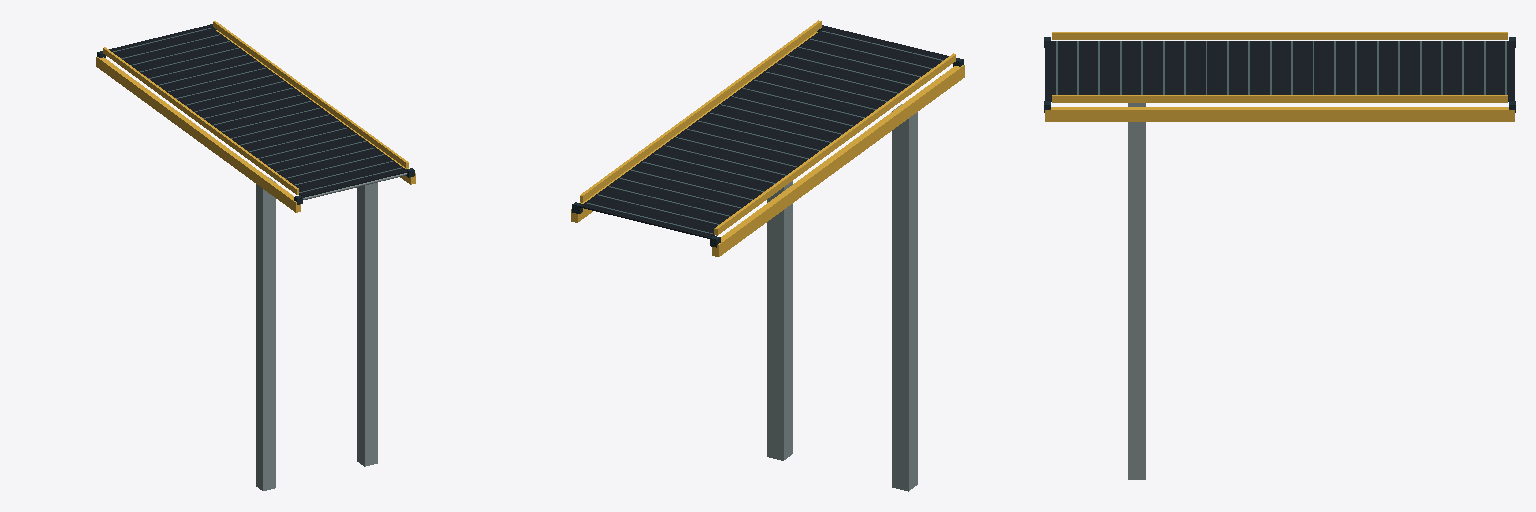
URDF robot description (door_belt):
<?xml version='1.0' encoding='utf-8'?>
<robot name="door_belt">
  <link name="fixture_world" />
  <link name="door_belt_frame">
    <visual>
      <geometry>
        <mesh filename="package://bellybot_aircraft_environment/models/door_belt/meshes/door_belt_frame.dae" />
      </geometry>
    </visual>
    <inertial>
      <origin xyz="0 0 -0.5565" rpy="0 0 0" />
      <mass value="38" />
      <inertia ixx="11.485354333333333" iyy="22.414075166666667" izz="13.900479166666665" ixy="0" ixz="0" iyz="0" />
    </inertial>
    <collision name="frame-1">
      <geometry>
        <mesh filename="package://bellybot_aircraft_environment/models/door_belt/meshes/collision_door_belt_frame_frame-1.stl" />
      </geometry>
    </collision>
    <collision name="guide-1">
      <geometry>
        <mesh filename="package://bellybot_aircraft_environment/models/door_belt/meshes/collision_door_belt_frame_guide-1.stl" />
      </geometry>
    </collision>
    <collision name="frame1">
      <geometry>
        <mesh filename="package://bellybot_aircraft_environment/models/door_belt/meshes/collision_door_belt_frame_frame1.stl" />
      </geometry>
    </collision>
    <collision name="guide1">
      <geometry>
        <mesh filename="package://bellybot_aircraft_environment/models/door_belt/meshes/collision_door_belt_frame_guide1.stl" />
      </geometry>
    </collision>
    <collision name="ground_leg-1">
      <geometry>
        <mesh filename="package://bellybot_aircraft_environment/models/door_belt/meshes/collision_door_belt_frame_ground_leg-1.stl" />
      </geometry>
    </collision>
    <collision name="ground_leg1">
      <geometry>
        <mesh filename="package://bellybot_aircraft_environment/models/door_belt/meshes/collision_door_belt_frame_ground_leg1.stl" />
      </geometry>
    </collision>
  </link>
  <joint name="door_belt_frame_anchor" type="fixed">
    <parent link="fixture_world" />
    <child link="door_belt_frame" />
    <origin xyz="1.3 -1.599 0" rpy="0 0 1.570796327" />
  </joint>
  <link name="door_belt_contact">
    <visual>
      <geometry>
        <mesh filename="package://bellybot_aircraft_environment/models/door_belt/meshes/door_belt_contact.dae" />
      </geometry>
    </visual>
    <inertial>
      <origin xyz="0 0 0.2974" rpy="0 0 0" />
      <mass value="1" />
      <inertia ixx="0.030033333333333332" iyy="0.32607366666666665" izz="0.35604033333333335" ixy="0" ixz="0" iyz="0" />
    </inertial>
    <collision name="contact">
      <geometry>
        <mesh filename="package://bellybot_aircraft_environment/models/door_belt/meshes/collision_door_belt_contact_contact.stl" />
      </geometry>
    </collision>
  </link>
  <link name="door_belt_contact_rear">
    <visual>
      <geometry>
        <mesh filename="package://bellybot_aircraft_environment/models/door_belt/meshes/door_belt_contact_rear.dae" />
      </geometry>
    </visual>
    <inertial>
      <origin xyz="0 0 0" rpy="0 0 0" />
      <mass value="0.5" />
      <inertia ixx="0.018836166666666664" iyy="4.033333333333339e-05" izz="0.018836166666666664" ixy="0" ixz="0" iyz="0" />
    </inertial>
  </link>
  <link name="door_belt_contact_front">
    <visual>
      <geometry>
        <mesh filename="package://bellybot_aircraft_environment/models/door_belt/meshes/door_belt_contact_front.dae" />
      </geometry>
    </visual>
    <inertial>
      <origin xyz="0 0 0" rpy="0 0 0" />
      <mass value="0.5" />
      <inertia ixx="0.018836166666666664" iyy="4.033333333333339e-05" izz="0.018836166666666664" ixy="0" ixz="0" iyz="0" />
    </inertial>
  </link>
  <joint name="door_belt_contact_joint" type="fixed">
    <parent link="door_belt_frame" />
    <child link="door_belt_contact" />
    <origin xyz="0 0 0" rpy="0 0 0" />
  </joint>
  <joint name="door_belt_contact_rear_joint" type="continuous">
    <parent link="door_belt_frame" />
    <child link="door_belt_contact_rear" />
    <origin xyz="-0.977 0 0.286" rpy="0 0 0" />
    <axis xyz="0 1 0" />
    <limit effort="120" velocity="120" />
    <dynamics damping=".3" friction="0" />
  </joint>
  <joint name="door_belt_contact_front_joint" type="continuous">
    <parent link="door_belt_frame" />
    <child link="door_belt_contact_front" />
    <origin xyz="0.977 0 0.286" rpy="0 0 0" />
    <axis xyz="0 1 0" />
    <limit effort="120" velocity="120" />
    <dynamics damping=".3" friction="0" />
  </joint>
</robot>

--- What the picture shows (computed from the rendered views, not written in the file) ---
The picture shows the robot from 3 angles, left to right: view 1: azimuth 30°, elevation 25°; view 2: azimuth 150°, elevation 25°; view 3: azimuth 270°, elevation 25°; orthographic projection.
Model door_belt with 5 links and 4 joints (2 continuous, 2 fixed), rooted at fixture_world, posed all joints at 0.
Visible links, largest first — view 1: door_belt_contact, door_belt_frame; view 2: door_belt_contact, door_belt_frame; view 3: door_belt_contact, door_belt_frame.
Link boxes in pixels (left/top/right/bottom): door_belt_contact: left=109, top=25, right=407, bottom=197; door_belt_frame: left=96, top=21, right=415, bottom=490; door_belt_contact: left=580, top=26, right=948, bottom=238; door_belt_frame: left=571, top=20, right=964, bottom=491; door_belt_contact: left=1045, top=41, right=1514, bottom=101; door_belt_frame: left=1044, top=32, right=1515, bottom=479.
Bounding box of the posed robot: 0.685 × 1.98 × 1.78 m (x, y, z).
3 mesh visuals loaded from 4 distinct referenced files (3 Collada DAE); not drawn: 1 (reference not matched to a file when rendering).
